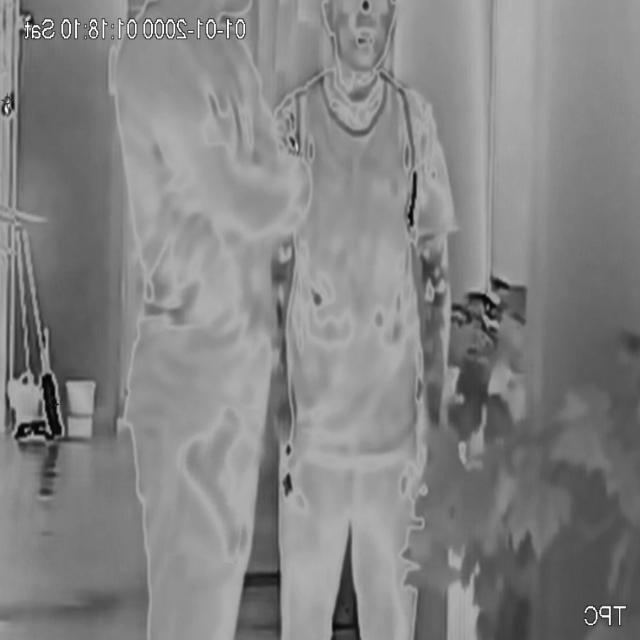Weapon: (172, 402, 255, 562)
